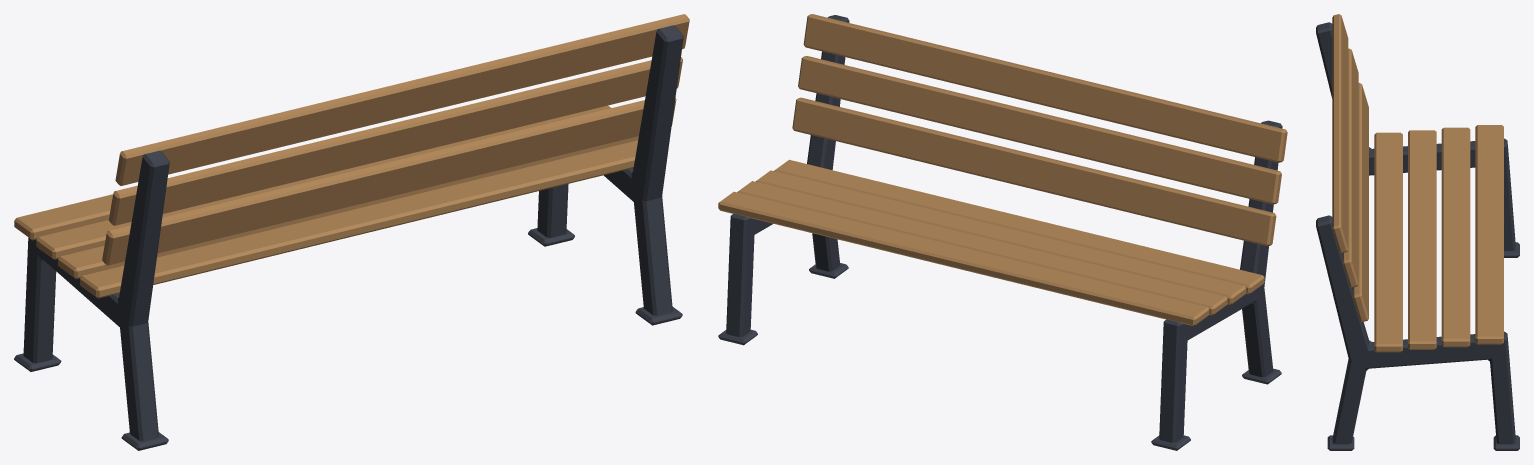
File: bench.glb
3 views of the same model, side by side, from view 1: azimuth 30°, elevation 25°; view 2: azimuth 150°, elevation 25°; view 3: azimuth 270°, elevation 25° (orthographic). The views are drawn at different scales.
Parts seen in each view (by area): view 1: bench; view 2: bench; view 3: bench.
Boxes of the visible parts, x1=… form: bench: x1=14, y1=14, x2=689, y2=450; bench: x1=718, y1=14, x2=1287, y2=450; bench: x1=1316, y1=14, x2=1519, y2=450.
Bounding box in the file's own units: 1.72 × 0.865 × 0.6963.
